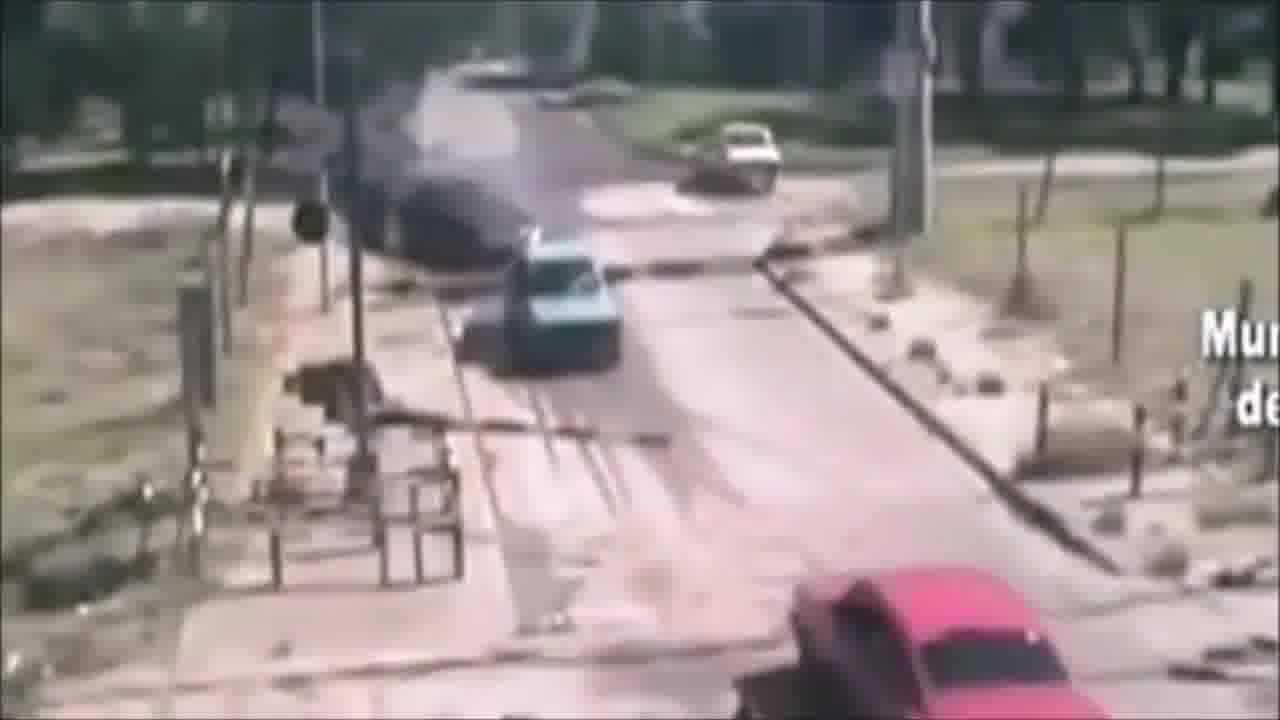crossing railway track: (731, 524, 1166, 720)
